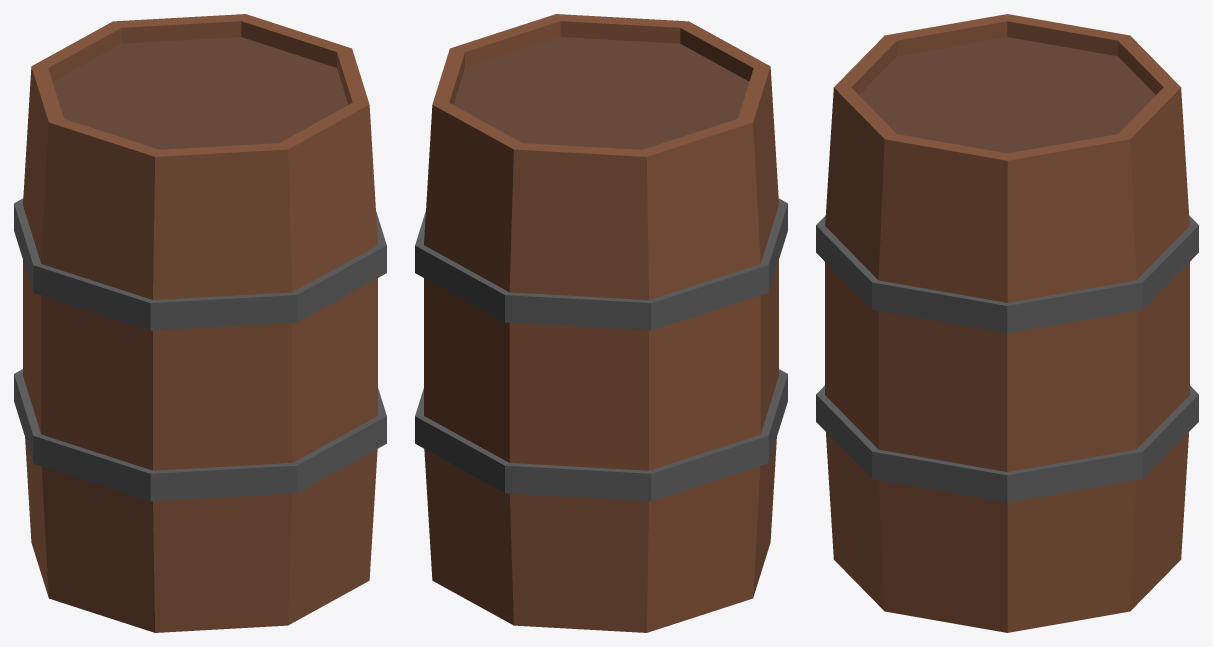
File: wooden_barrel_destructible.fbx
3 renders of one model, left to right at view 1: azimuth 30°, elevation 25°; view 2: azimuth 150°, elevation 25°; view 3: azimuth 270°, elevation 25°, orthographic.
Parts seen in each view (by area): view 1: Wood_Barrel_Destructible_Half2, Wood_Barrel_Destructible_Half1, Wood_Barrel_Destructible_Lid2, Wood_Barrel_Destructible_Ring2, Wood_Barrel_Destructible_Ring1; view 2: Wood_Barrel_Destructible_Half2, Wood_Barrel_Destructible_Half1, Wood_Barrel_Destructible_Lid2, Wood_Barrel_Destructible_Ring2, Wood_Barrel_Destructible_Ring1; view 3: Wood_Barrel_Destructible_Half2, Wood_Barrel_Destructible_Half1, Wood_Barrel_Destructible_Lid2, Wood_Barrel_Destructible_Ring2, Wood_Barrel_Destructible_Ring1.
Boxes of the visible parts, x1,y1,x2,y2 form: Wood_Barrel_Destructible_Half2: (23, 14, 377, 398); Wood_Barrel_Destructible_Half1: (23, 304, 377, 632); Wood_Barrel_Destructible_Lid2: (52, 37, 348, 149); Wood_Barrel_Destructible_Ring2: (14, 198, 386, 330); Wood_Barrel_Destructible_Ring1: (14, 369, 386, 501); Wood_Barrel_Destructible_Half2: (424, 14, 778, 398); Wood_Barrel_Destructible_Half1: (424, 304, 778, 632); Wood_Barrel_Destructible_Lid2: (453, 37, 749, 149); Wood_Barrel_Destructible_Ring2: (415, 198, 787, 330); Wood_Barrel_Destructible_Ring1: (415, 369, 787, 501); Wood_Barrel_Destructible_Half2: (825, 14, 1189, 400); Wood_Barrel_Destructible_Half1: (825, 324, 1189, 632); Wood_Barrel_Destructible_Lid2: (859, 37, 1155, 153); Wood_Barrel_Destructible_Ring2: (816, 216, 1198, 333); Wood_Barrel_Destructible_Ring1: (816, 385, 1198, 502).
Size of the model in its own units: 165 by 225 by 165.
